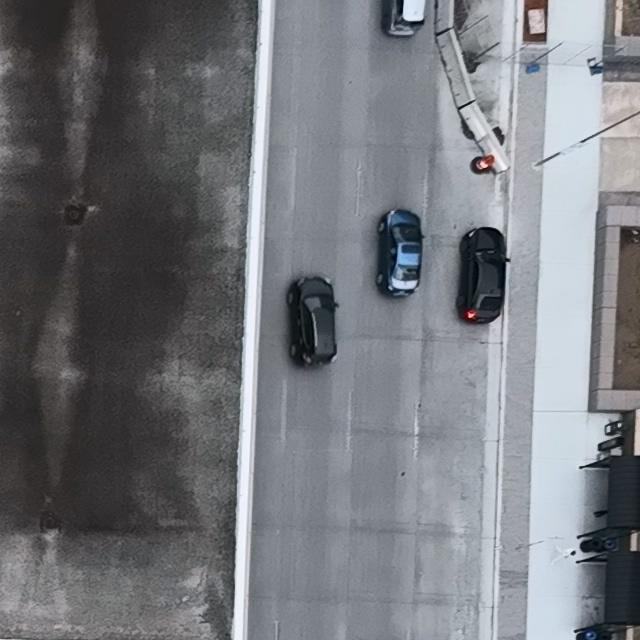car: (455, 224, 511, 324), (285, 275, 341, 366), (377, 207, 426, 299), (382, 0, 424, 37)
